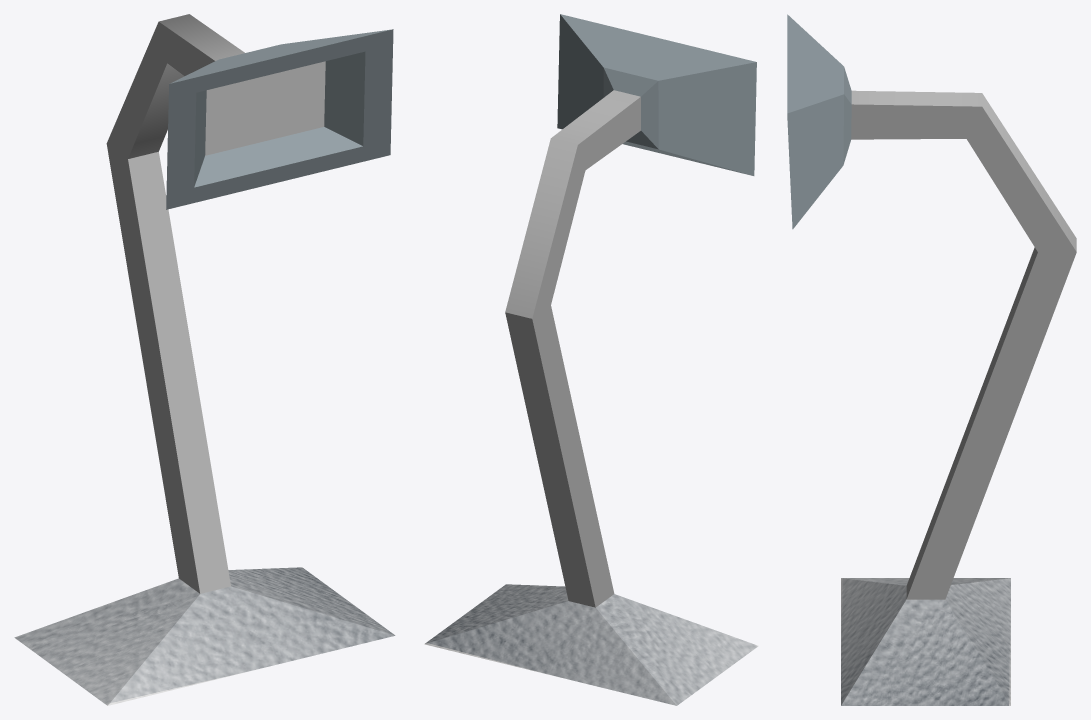
File: spotlight2.fbx
The picture shows the model from 3 angles, left to right: view 1: azimuth 30°, elevation 25°; view 2: azimuth 150°, elevation 25°; view 3: azimuth 270°, elevation 25°; orthographic projection. The views are drawn at different scales.
Parts seen in each view (by area): view 1: spotlight:pCube1; view 2: spotlight:pCube1; view 3: spotlight:pCube1.
Part boxes in pixels (x1,y1,x2,y2): spotlight:pCube1: (14,14,395,705); spotlight:pCube1: (424,14,758,705); spotlight:pCube1: (787,14,1076,705).
Bounding box in the file's own units: 178 × 375 × 170.
Materials: 1 (1 with a texture image).
